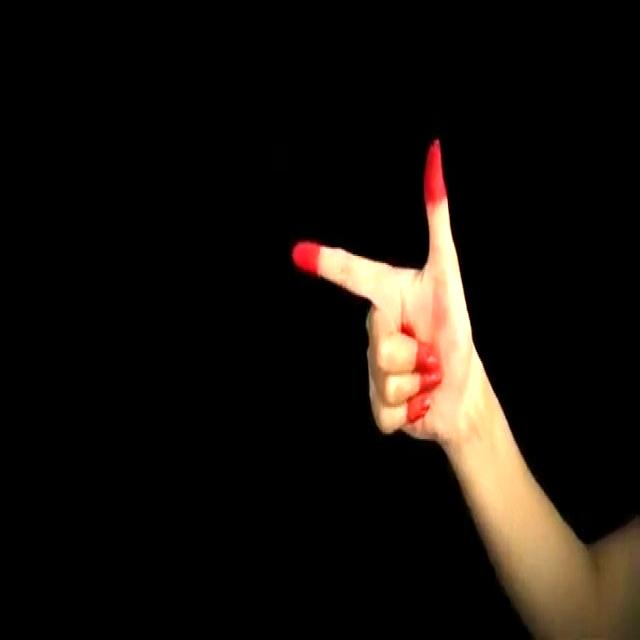Chandrakala: (276, 102, 496, 471)
